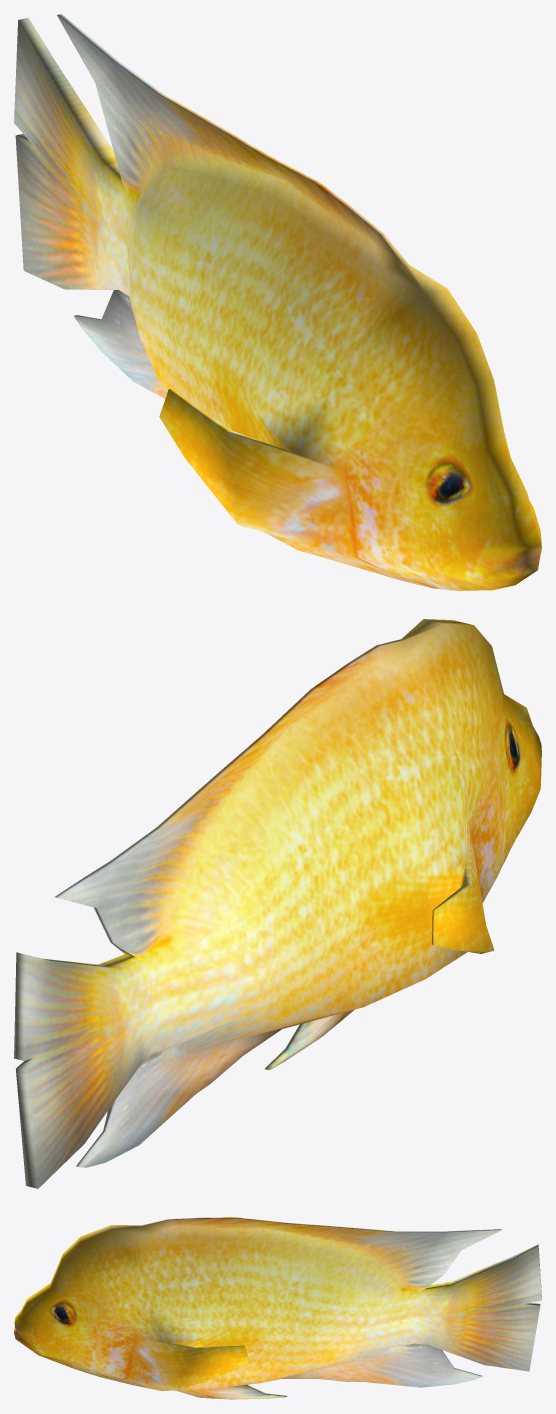
Rendered from fish9.glb.
3 views of the same model, one above another, from view 1: azimuth 30°, elevation 25°; view 2: azimuth 150°, elevation 25°; view 3: azimuth 270°, elevation 25° (orthographic). The views are drawn at different scales.
Visible parts, largest first — view 1: Asset3DLoader.sceneRoot; view 2: Asset3DLoader.sceneRoot; view 3: Asset3DLoader.sceneRoot.
Boxes of the visible parts, box(x1,y1,x2,y2) form: Asset3DLoader.sceneRoot: box(14, 14, 541, 590); Asset3DLoader.sceneRoot: box(14, 619, 541, 1188); Asset3DLoader.sceneRoot: box(14, 1217, 541, 1399).
Bounding box in the file's own units: 153 × 188 × 495.
1 material, 1 textured.
